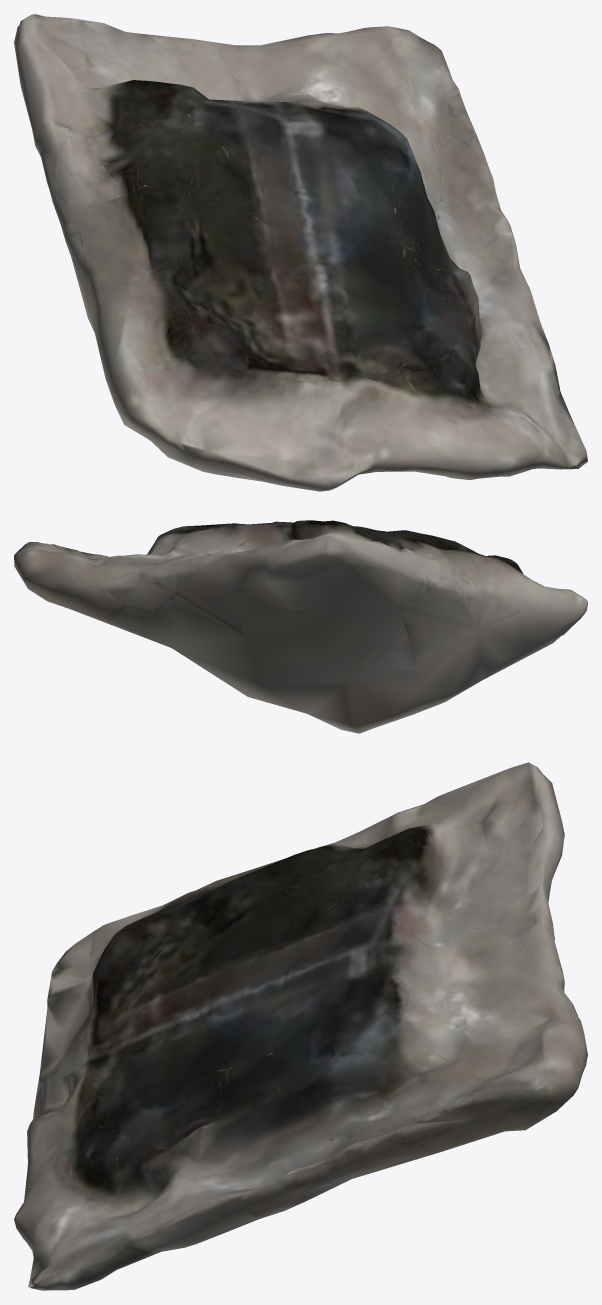
File: hall.glb
3 renders of one model, top to bottom at view 1: azimuth 30°, elevation 25°; view 2: azimuth 150°, elevation 25°; view 3: azimuth 270°, elevation 25°, orthographic. The views are drawn at different scales.
Bounding box in the file's own units: 0.4008 × 0.2693 × 0.3794.
1 material, 1 textured.
